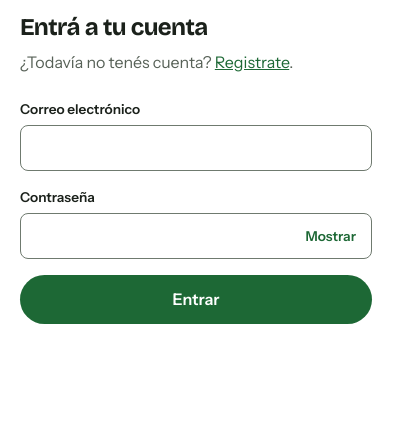
Test: LoginPage › muestra un mensaje de error genérico ante credenciales incorrectas
The image size is (393, 440).
Type "valeria@ejemplo.cr" into the field labelled "Correo electrónico" at (196, 148), box [20, 125, 372, 171]
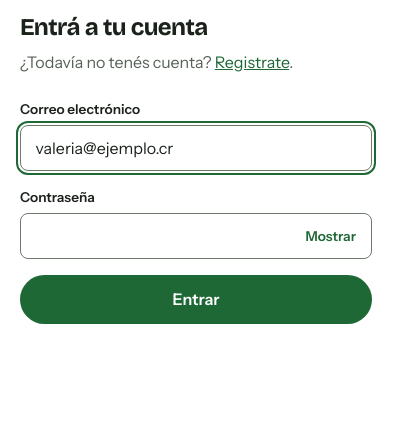
Type "incorrecta1" into the password field labelled "Contraseña" at (196, 236), box [20, 213, 372, 259]
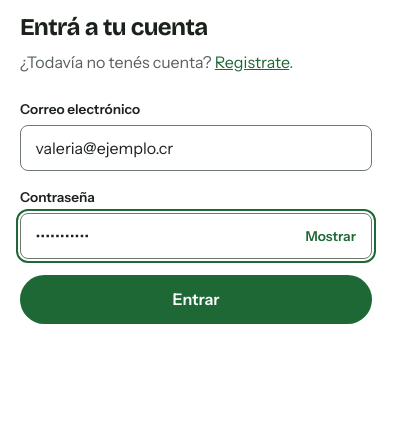
Click the button "Entrar" at (196, 299), box [20, 275, 372, 324]
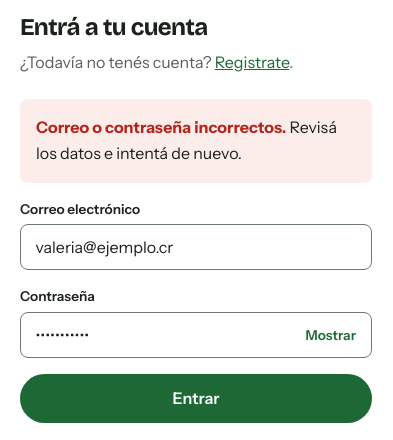
Check: the message shows "Correo o contraseña incorrectos.", box [36, 117, 286, 137]
Check: the message shows "Revisá los datos e intentá de nuevo.", box [36, 117, 337, 163]
